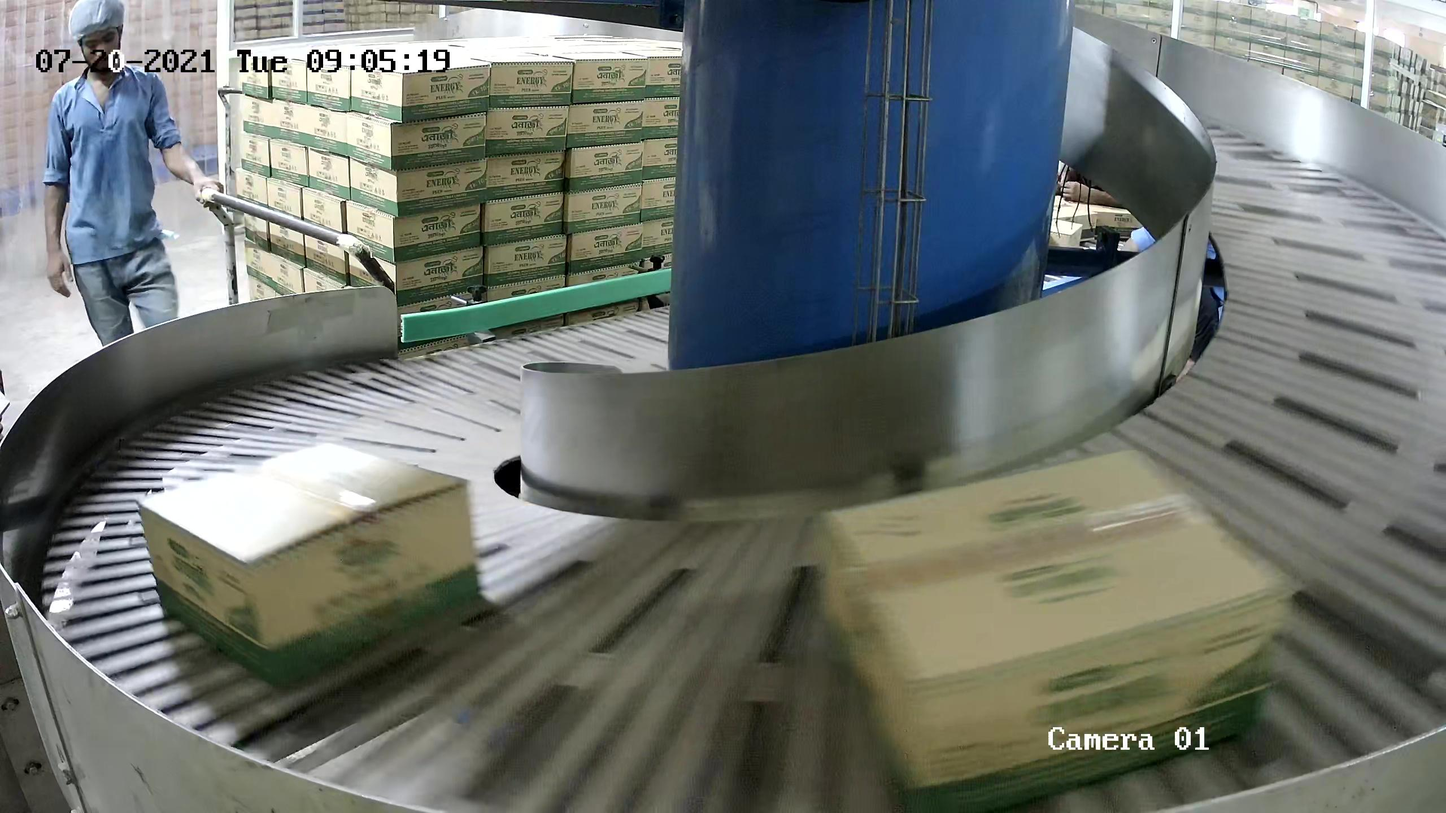Box: (813, 442, 1302, 813), (141, 444, 488, 691)
